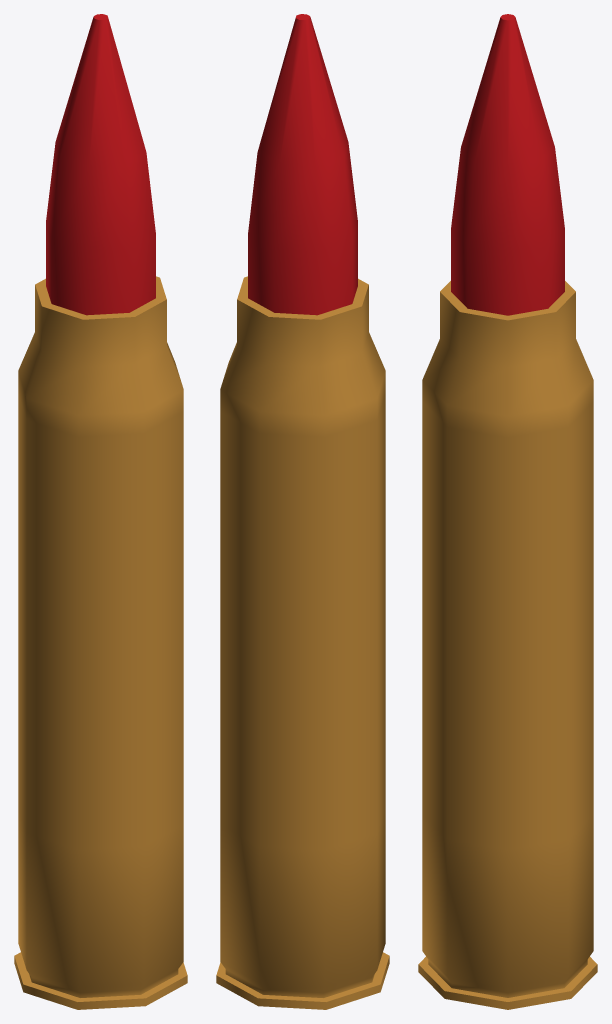
File: Bullet.obj
3 views of the same model, side by side, from view 1: azimuth 30°, elevation 25°; view 2: azimuth 150°, elevation 25°; view 3: azimuth 270°, elevation 25° (orthographic).
Visible parts, largest first — view 1: bullet; view 2: bullet; view 3: bullet.
Part boxes in pixels (<box>): bullet: <box>14,14,187,1009</box>; bullet: <box>216,14,389,1009</box>; bullet: <box>418,14,597,1009</box>.
Bounding box in the file's own units: 0.4109 × 2.42 × 0.4109.
